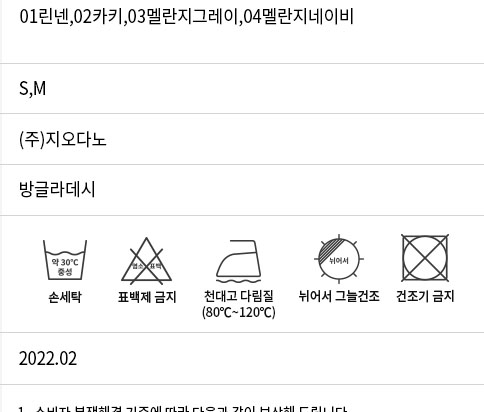KR_flat_dry_in_shade: (310, 232, 367, 283)
KR_hand_wash_30_neutral: (37, 234, 92, 286)
KR_no_chlorine_bleach: (118, 235, 175, 286)
KR_no_tumble_dry: (395, 229, 452, 284)
